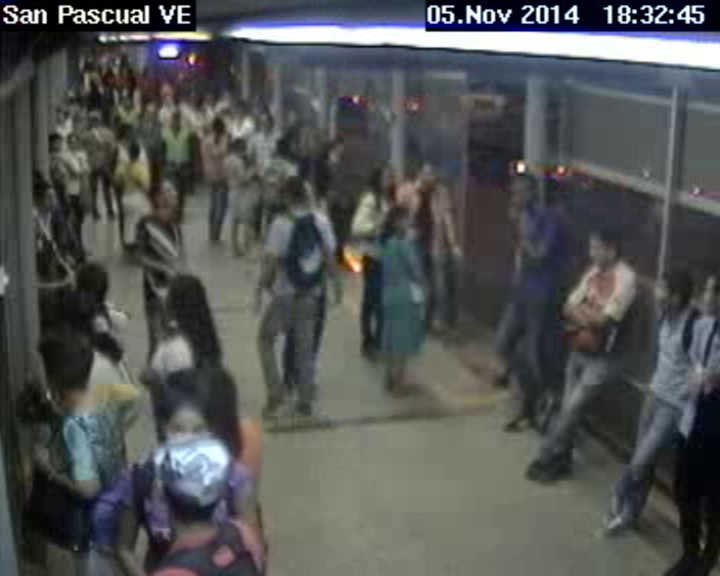person: (148, 427, 226, 518), (40, 329, 94, 407), (153, 271, 217, 335), (155, 392, 211, 441), (579, 221, 620, 267), (651, 265, 689, 311), (77, 259, 106, 314), (506, 171, 542, 212), (146, 177, 185, 212), (282, 169, 311, 213), (701, 269, 720, 318), (410, 154, 437, 187), (384, 210, 408, 245), (34, 179, 56, 212), (371, 164, 395, 193), (125, 141, 146, 167), (208, 115, 226, 138), (46, 131, 62, 153), (167, 108, 183, 129), (233, 100, 248, 119), (274, 140, 289, 158), (87, 110, 102, 127), (233, 136, 246, 155), (67, 131, 79, 151), (259, 113, 272, 131), (117, 92, 132, 104)
